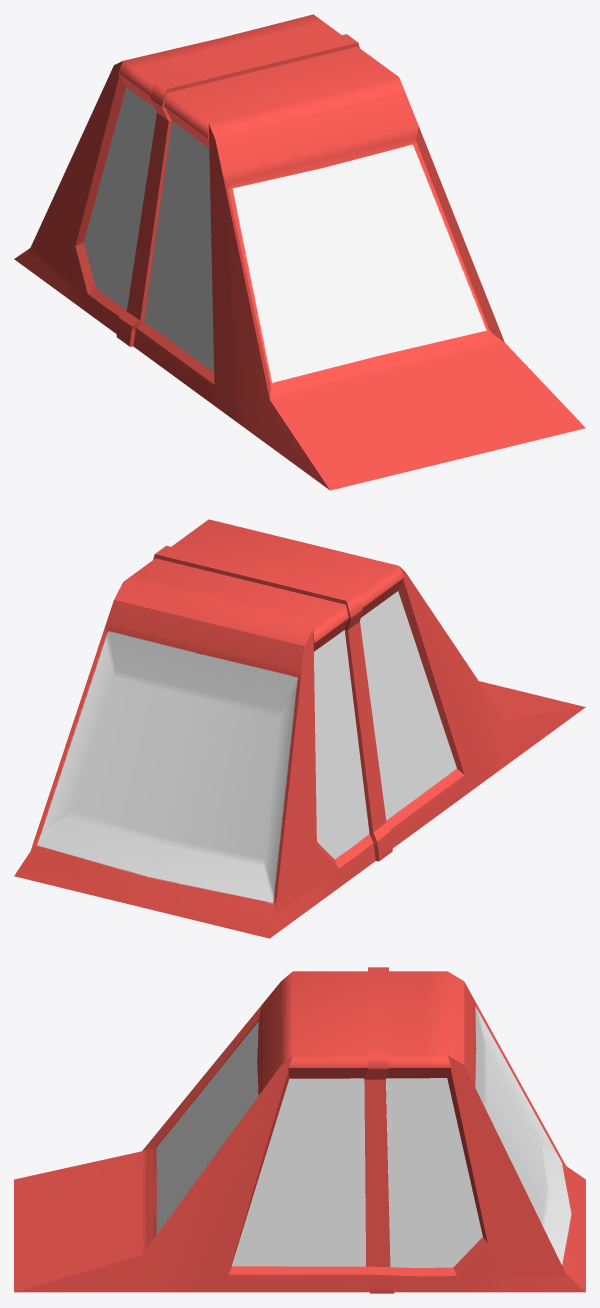
The model's file is CLASSIC-TOP-Yw3fYsWR.glb.
The picture shows the model from 3 angles, top to bottom: view 1: azimuth 30°, elevation 25°; view 2: azimuth 150°, elevation 25°; view 3: azimuth 270°, elevation 25°; orthographic projection. The views are drawn at different scales.
Bounding box in the file's own units: 1.54 × 1.4 × 3.21.
2 materials, 2 textured.
